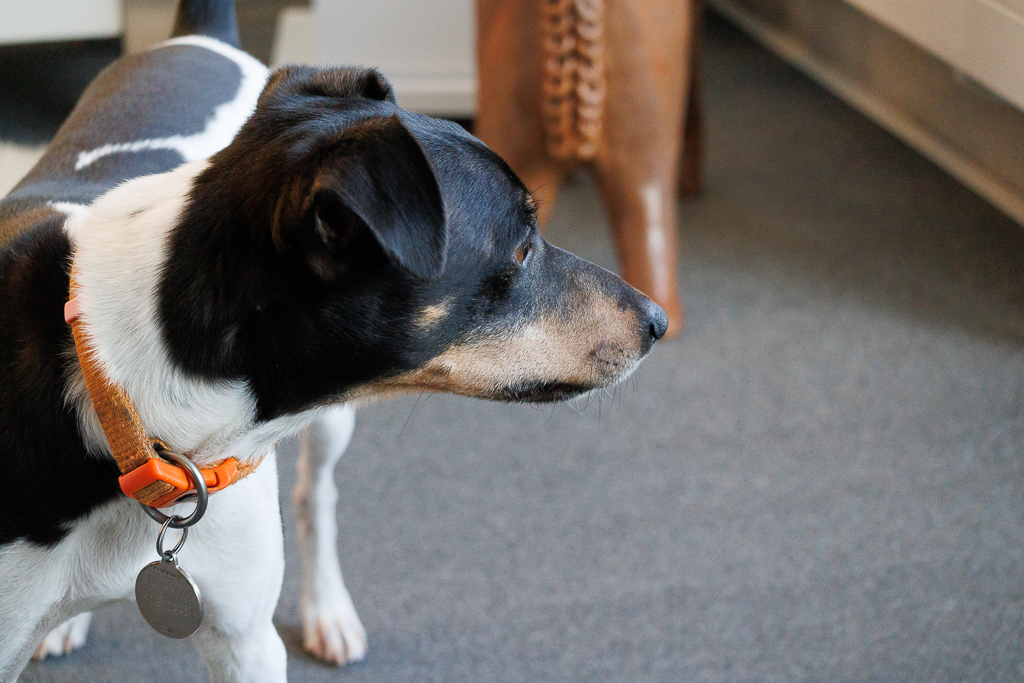Cattle: (455, 0, 718, 360)
Dog: (0, 0, 671, 682)
